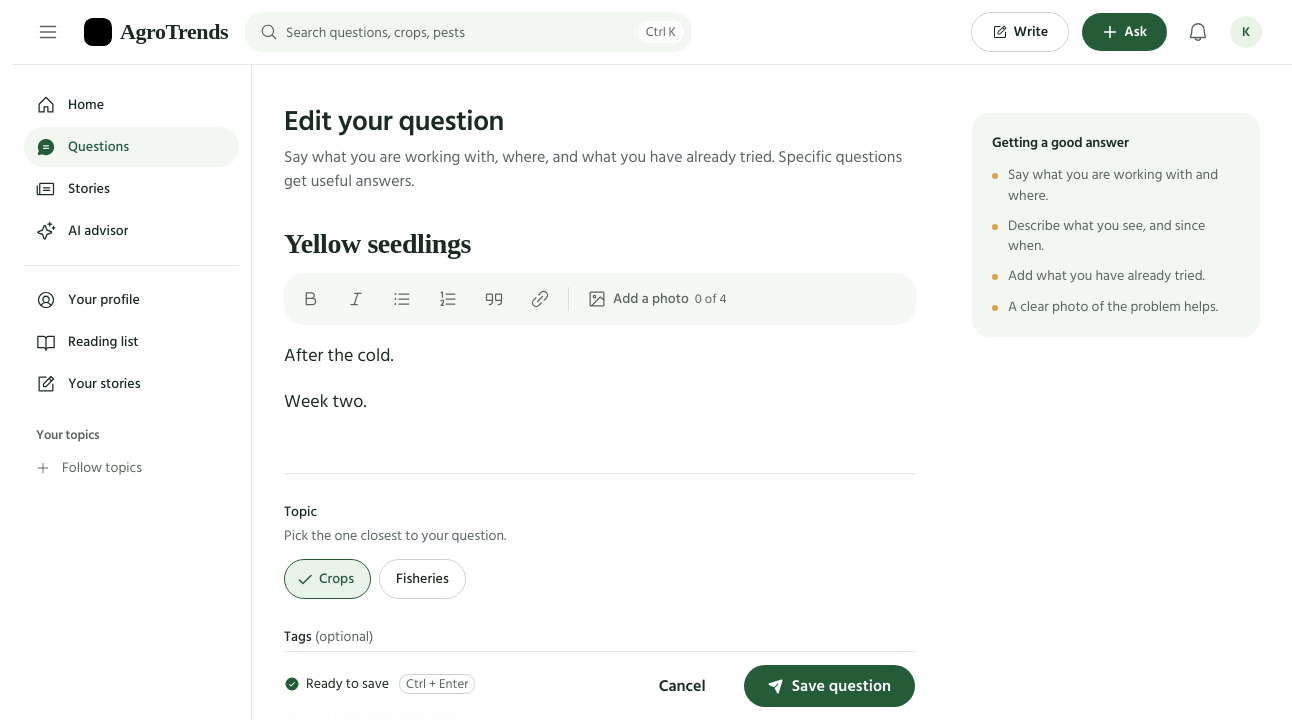
the asker edits an older plain-text question as paragraphs, and its farming details are kept
The image size is (1292, 720).
Expected: the text box named "Your question" holds "Yellow seedlings", [284, 226, 916, 273]
Click the button "Save question" at (829, 686), box [743, 664, 916, 708]
(page scrolled)
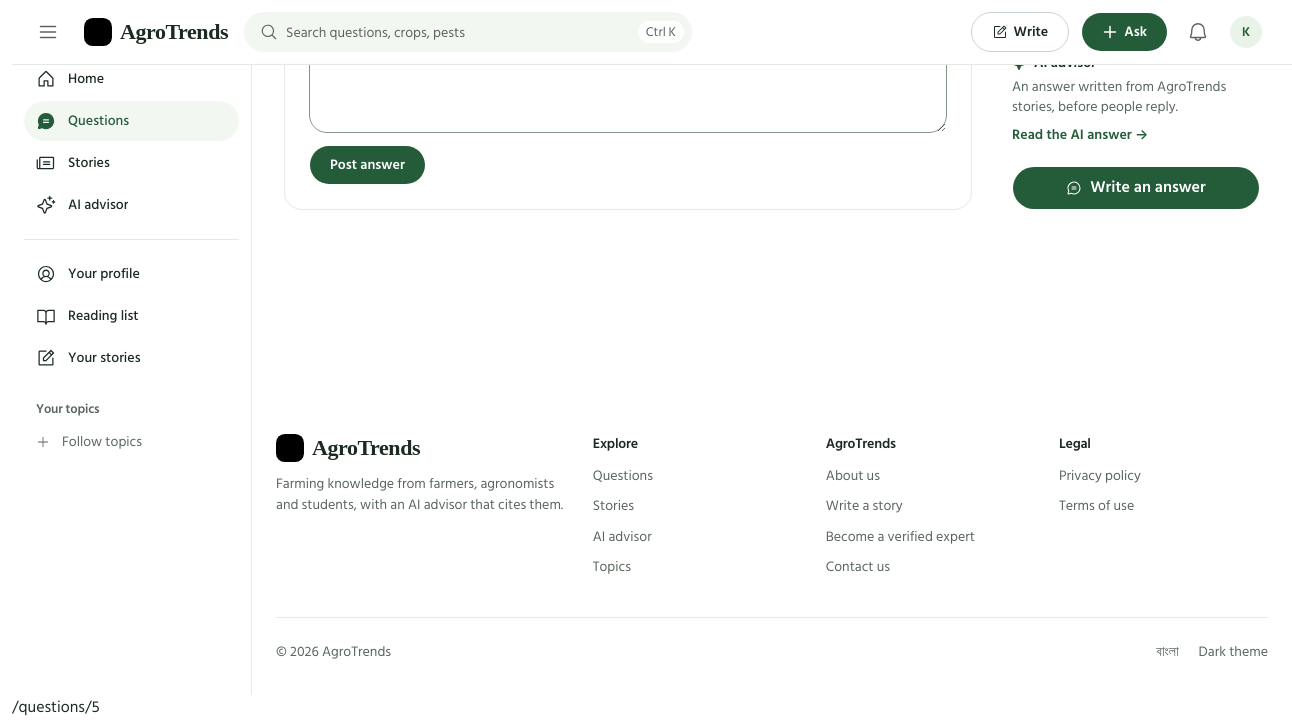
Expected: the text with test id "path" reads "/questions/5", [12, 694, 100, 719]
